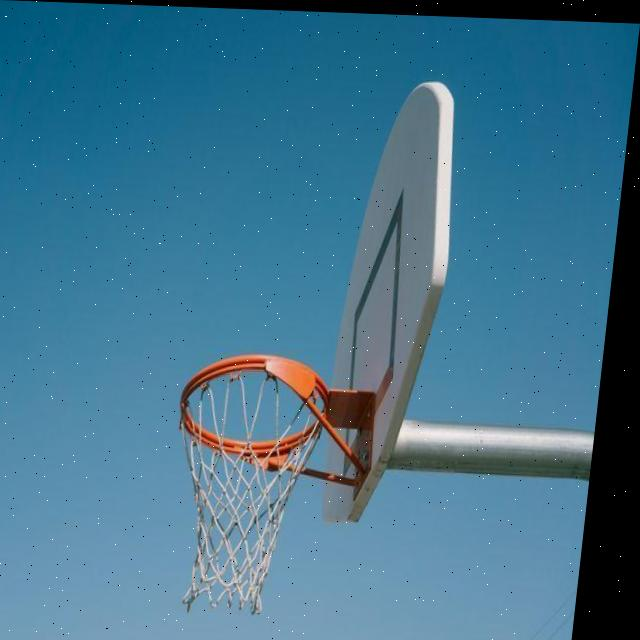hoop: (147, 344, 346, 617)
